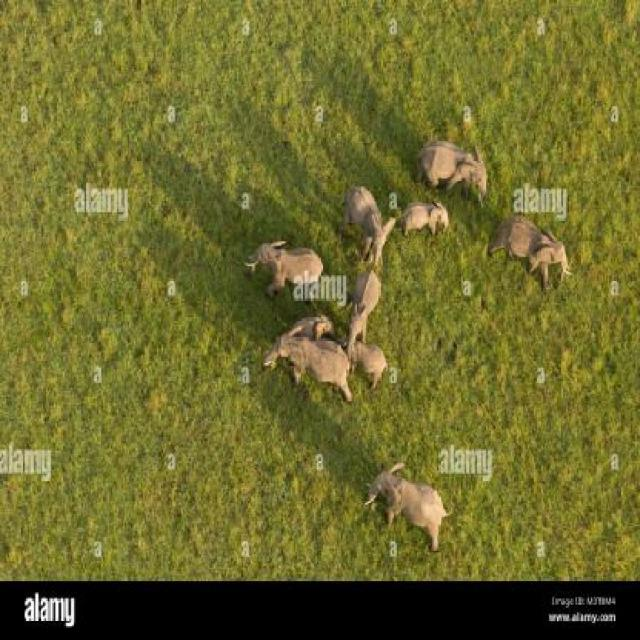elephant: (366, 445, 457, 549), (479, 222, 587, 289), (267, 329, 356, 406), (334, 173, 395, 256), (246, 237, 326, 298), (422, 143, 507, 197), (348, 331, 417, 391), (341, 273, 394, 339), (394, 197, 452, 241), (286, 302, 342, 346)
